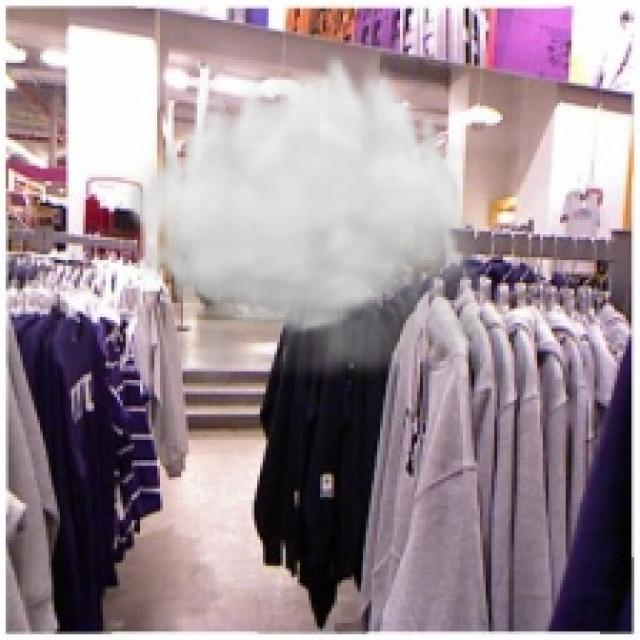smoke: (123, 46, 537, 403)
